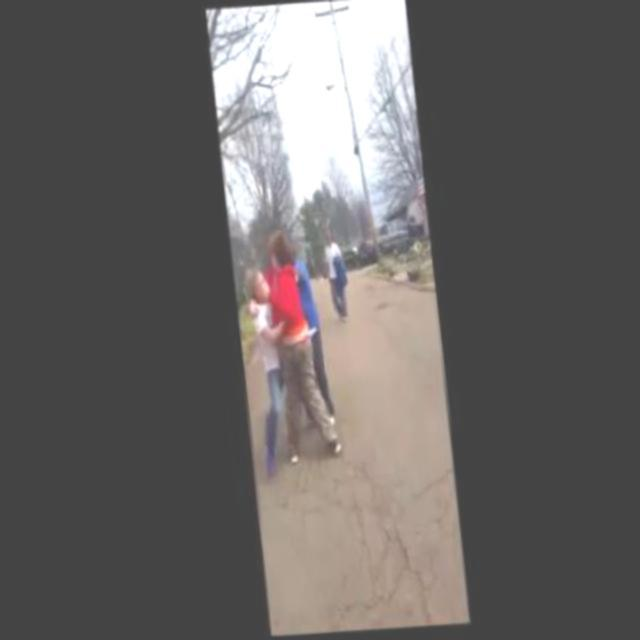fight: (234, 235, 340, 470)
